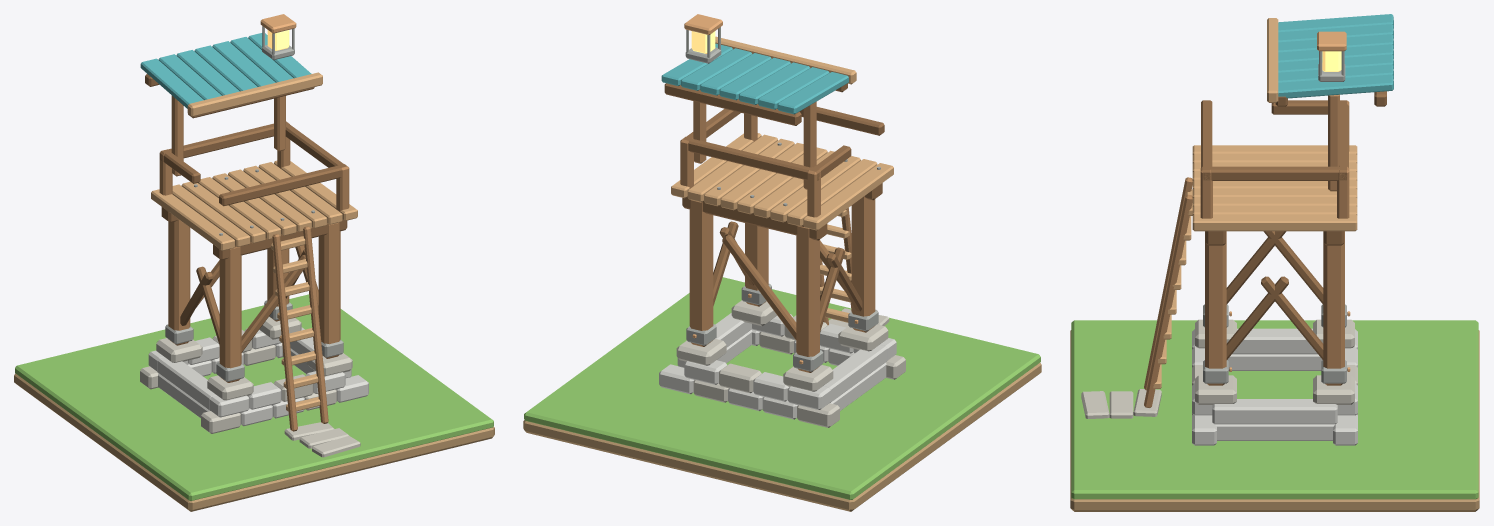
File: tower_l01_active.glb
3 renders of one model, left to right at view 1: azimuth 30°, elevation 25°; view 2: azimuth 150°, elevation 25°; view 3: azimuth 270°, elevation 25°, orthographic. The views are drawn at different scales.
Parts seen in each view (by area): view 1: tower_l01_grass_tile, tower_l01_earth_tile, upright_-0.58_-0.52, upright_0.58_-0.52, upright_-0.58_0.52, canopy_front_trim, parapet_long_-0.6, ladder_rail_-0.18, ladder_rail_0.18, deck_board_0, plinth_return_1_-0.73, parapet_long_0.6 (+34 smaller); view 2: tower_l01_grass_tile, tower_l01_earth_tile, upright_0.58_0.52, upright_-0.58_0.52, upright_-0.58_-0.52, parapet_long_0.6, deck_board_0, canopy_crossbar_0.93, plinth_return_1_-0.73, rear_brace_0.52, deck_bearer_0.52, canopy_board_0 (+36 smaller); view 3: tower_l01_grass_tile, tower_l01_earth_tile, plinth_return_1_0.73, deck_board_8, upright_0.58_0.52, upright_0.58_-0.52, plinth_return_0_0.73, parapet_right, canopy_board_6, ladder_rail_0.18, plinth_return_1_-0.73, plinth_return_0_-0.73 (+33 smaller).
Boxes of the visible parts, left/top/right/bottom form: tower_l01_grass_tile: left=15, top=294, right=493, bottom=500; tower_l01_earth_tile: left=14, top=373, right=494, bottom=511; upright_-0.58_-0.52: left=219, top=246, right=241, bottom=382; upright_0.58_-0.52: left=318, top=222, right=340, bottom=358; upright_-0.58_0.52: left=168, top=219, right=190, bottom=345; canopy_front_trim: left=187, top=72, right=322, bottom=116; parapet_long_-0.6: left=219, top=164, right=347, bottom=206; ladder_rail_-0.18: left=272, top=233, right=297, bottom=431; ladder_rail_0.18: left=303, top=226, right=328, bottom=423; deck_board_0: left=151, top=189, right=234, bottom=250; plinth_return_1_-0.73: left=157, top=357, right=216, bottom=410; parapet_long_0.6: left=159, top=121, right=287, bottom=160; tower_l01_grass_tile: left=524, top=277, right=1040, bottom=499; tower_l01_earth_tile: left=523, top=363, right=1041, bottom=511; upright_0.58_0.52: left=689, top=200, right=713, bottom=346; upright_-0.58_0.52: left=796, top=226, right=819, bottom=372; upright_-0.58_-0.52: left=851, top=196, right=875, bottom=332; parapet_long_0.6: left=682, top=137, right=820, bottom=180; deck_board_0: left=803, top=163, right=893, bottom=230; canopy_crossbar_0.93: left=664, top=83, right=801, bottom=125; plinth_return_1_-0.73: left=823, top=345, right=887, bottom=402; rear_brace_0.52: left=722, top=234, right=796, bottom=339; deck_bearer_0.52: left=682, top=196, right=827, bottom=240; canopy_board_0: left=777, top=72, right=848, bottom=114; tower_l01_grass_tile: left=1071, top=320, right=1478, bottom=499; tower_l01_earth_tile: left=1070, top=330, right=1479, bottom=511; plinth_return_1_0.73: left=1212, top=399, right=1337, bottom=424; deck_board_8: left=1192, top=214, right=1357, bottom=231; upright_0.58_0.52: left=1323, top=231, right=1344, bottom=385; upright_0.58_-0.52: left=1205, top=231, right=1226, bottom=385; plinth_return_0_0.73: left=1215, top=424, right=1334, bottom=440; parapet_right: left=1210, top=166, right=1339, bottom=180; canopy_board_6: left=1278, top=74, right=1393, bottom=98; ladder_rail_0.18: left=1144, top=194, right=1192, bottom=407; plinth_return_1_-0.73: left=1232, top=328, right=1317, bottom=354; plinth_return_0_-0.73: left=1227, top=354, right=1322, bottom=370.
Size of the model in its own units: 3.6 by 4.04 by 3.6.
